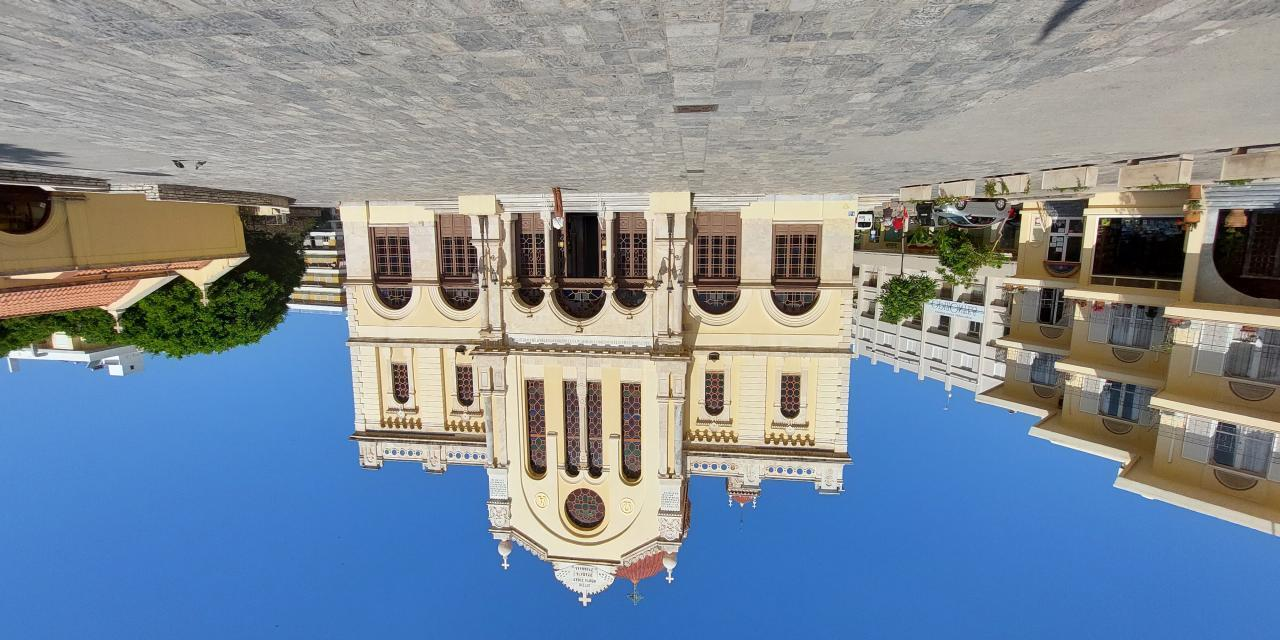Agios Minas: (332, 197, 859, 620)
